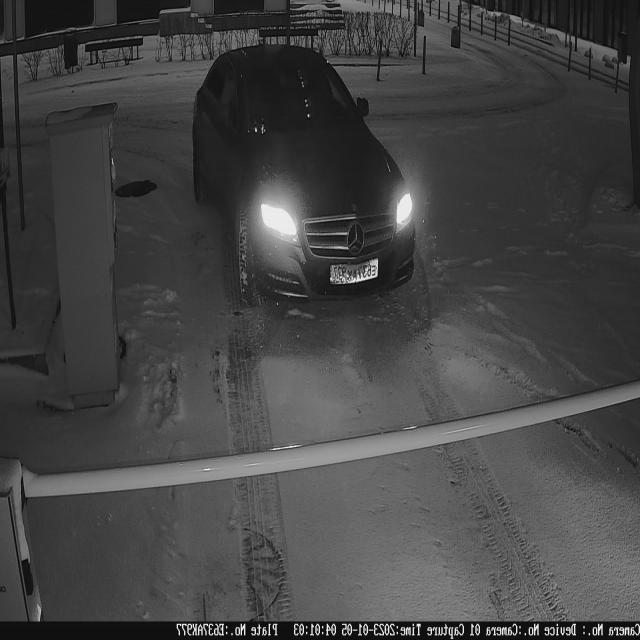car-plate-numbers: (328, 253, 381, 289)
